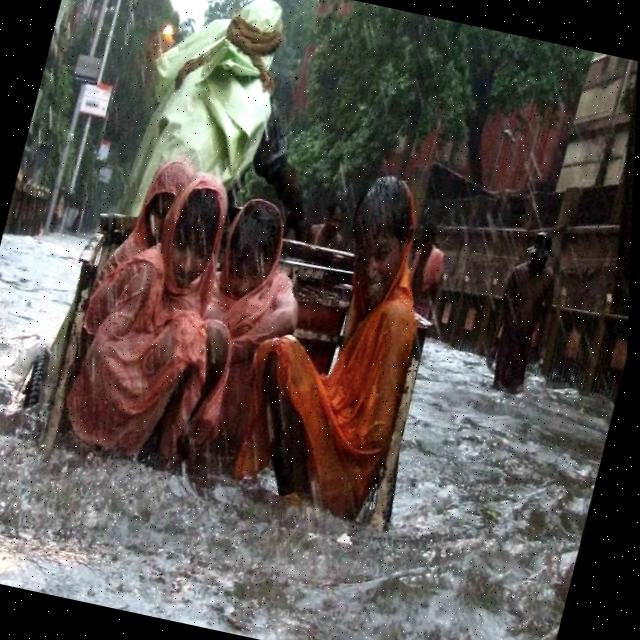civilian: (250, 152, 473, 536), (137, 0, 367, 250), (77, 176, 252, 472), (168, 192, 330, 488), (468, 211, 582, 418), (90, 150, 208, 306), (385, 208, 469, 342), (298, 185, 366, 264)
